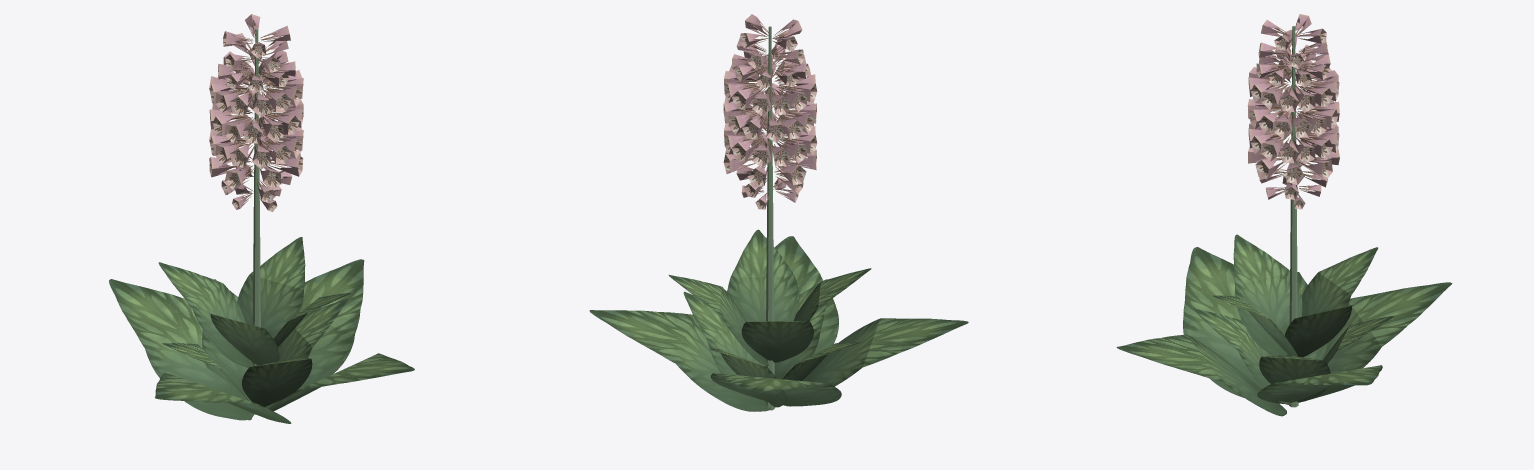
The model's file is FewFlowersSadHighPoly.fbx.
The picture shows the model from 3 angles, left to right: view 1: azimuth 30°, elevation 25°; view 2: azimuth 150°, elevation 25°; view 3: azimuth 270°, elevation 25°; orthographic projection.
Parts seen in each view (by area): view 1: LeafesCurve.036, LeafesCurve.037, LeafesCurve.038, Curve.111, Curve.106, Curve.108, Curve.112, Curve.107, Stem.008, Curve.103, Curve.104, Curve.109 (+1 smaller); view 2: LeafesCurve.036, LeafesCurve.037, LeafesCurve.038, Curve.111, Curve.106, Curve.108, Stem.008, Curve.107, Curve.112, Curve.103, Curve.104, Curve.109 (+1 smaller); view 3: LeafesCurve.036, LeafesCurve.037, LeafesCurve.038, Curve.111, Curve.106, Curve.108, Curve.107, Curve.112, Stem.008, Curve.103, Curve.104, Curve.109 (+1 smaller).
Part boxes in pixels (x1=…): LeafesCurve.036: x1=109, y1=259, x2=414, y2=423; LeafesCurve.037: x1=158, y1=237, x2=350, y2=367; LeafesCurve.038: x1=162, y1=279, x2=347, y2=406; Curve.111: x1=209, y1=61, x2=303, y2=117; Curve.106: x1=209, y1=88, x2=303, y2=143; Curve.108: x1=209, y1=114, x2=303, y2=169; Curve.112: x1=209, y1=135, x2=303, y2=190; Curve.107: x1=218, y1=48, x2=295, y2=93; Stem.008: x1=252, y1=29, x2=260, y2=414; Curve.103: x1=223, y1=14, x2=290, y2=58; Curve.104: x1=225, y1=33, x2=288, y2=72; Curve.109: x1=221, y1=164, x2=292, y2=203; LeafesCurve.036: x1=589, y1=236, x2=968, y2=411; LeafesCurve.037: x1=668, y1=229, x2=871, y2=365; LeafesCurve.038: x1=683, y1=279, x2=859, y2=407; Curve.111: x1=724, y1=56, x2=817, y2=115; Curve.106: x1=723, y1=83, x2=816, y2=142; Curve.108: x1=724, y1=111, x2=817, y2=167; Stem.008: x1=765, y1=26, x2=774, y2=410; Curve.107: x1=731, y1=45, x2=808, y2=88; Curve.112: x1=723, y1=132, x2=816, y2=187; Curve.103: x1=739, y1=14, x2=802, y2=51; Curve.104: x1=736, y1=32, x2=804, y2=69; Curve.109: x1=736, y1=160, x2=803, y2=197; LeafesCurve.036: x1=1116, y1=247, x2=1452, y2=416; LeafesCurve.037: x1=1212, y1=234, x2=1378, y2=357; LeafesCurve.038: x1=1193, y1=272, x2=1394, y2=404; Curve.111: x1=1248, y1=59, x2=1339, y2=112; Curve.106: x1=1247, y1=84, x2=1339, y2=138; Curve.108: x1=1248, y1=109, x2=1339, y2=164; Curve.107: x1=1256, y1=44, x2=1330, y2=87; Curve.112: x1=1248, y1=132, x2=1339, y2=185; Stem.008: x1=1289, y1=26, x2=1298, y2=407; Curve.103: x1=1261, y1=14, x2=1326, y2=50; Curve.104: x1=1258, y1=29, x2=1328, y2=68; Curve.109: x1=1259, y1=157, x2=1327, y2=199.
Size of the model in its own units: 116 by 101 by 113.
